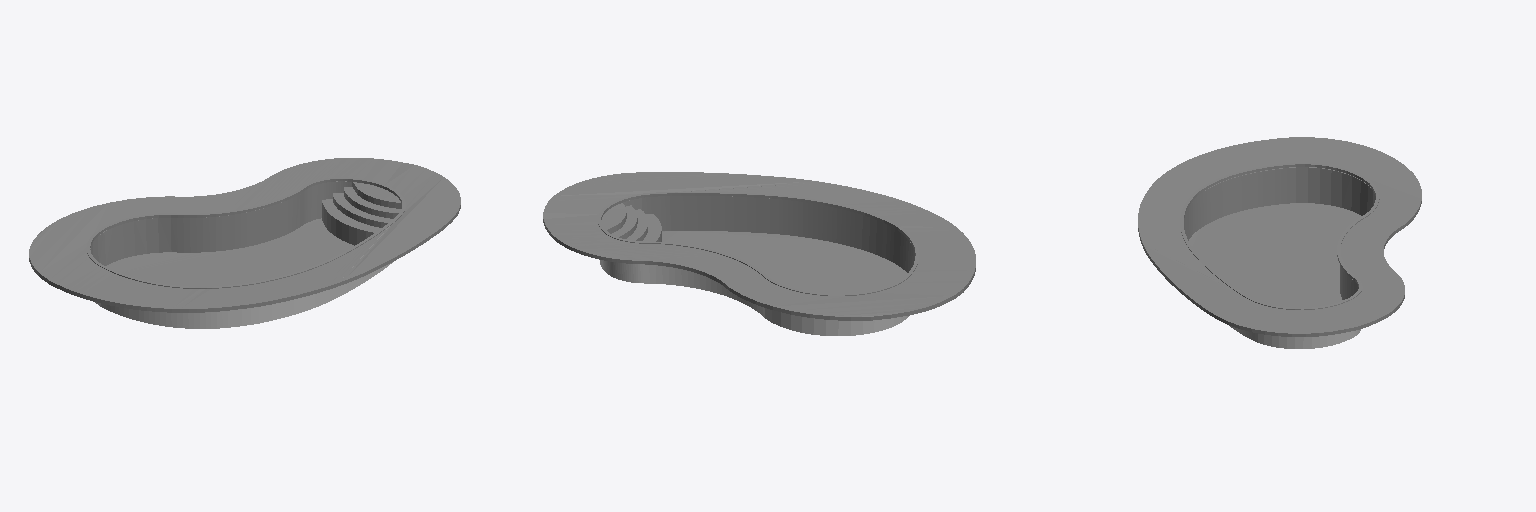
Rendered from avika-curved_pool_ver1.obj.
3 renders of one model, left to right at view 1: azimuth 30°, elevation 25°; view 2: azimuth 150°, elevation 25°; view 3: azimuth 270°, elevation 25°, orthographic.
Parts seen in each view (by area): view 1: avika_curved_pool, avika_curved_pool_glass_wall; view 2: avika_curved_pool, avika_curved_pool_glass_wall; view 3: avika_curved_pool, avika_curved_pool_glass_wall.
Boxes of the visible parts, x1,y1,x2,y2 form: avika_curved_pool: [29, 158, 460, 312]; avika_curved_pool_glass_wall: [95, 262, 392, 328]; avika_curved_pool: [543, 172, 975, 320]; avika_curved_pool_glass_wall: [600, 260, 908, 335]; avika_curved_pool: [1138, 137, 1421, 336]; avika_curved_pool_glass_wall: [1230, 326, 1360, 348].
Size of the model in its own units: 20.27 by 2 by 12.39.